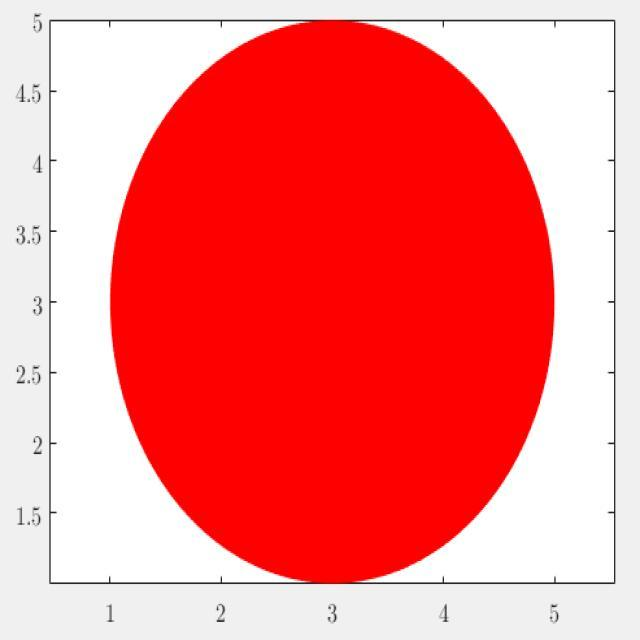Circle: (112, 24, 554, 581)
